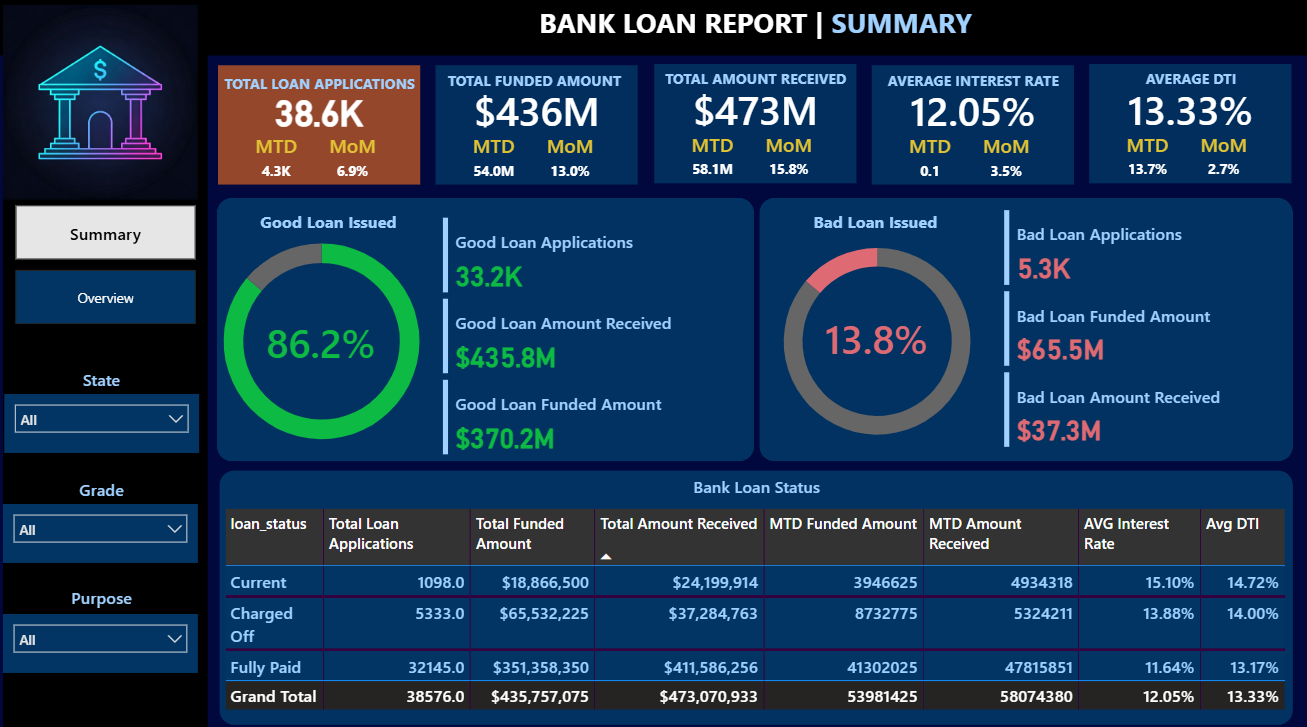

This screenshot's page, from the dashboard's own definition file:
{"tool":"powerbi","page":{"name":"Summary","canvas":[1280,720],"ordinal":0},"visuals":[{"type":"shape","box":[640.7,63.8,197.5,116.6],"z":0,"group":"g2"},{"type":"shape","box":[1066.3,63.8,197.5,116.6],"z":0,"group":"g9"},{"type":"shape","box":[853.5,64.4,197.5,116.6],"z":0,"group":"g6"},{"type":"shape","box":[214.7,65,197.5,116.6],"z":0,"group":"g1"},{"type":"shape","box":[428,65,197.5,116.6],"z":0,"group":"g4"},{"type":"shape","box":[213.5,193.9,525.2,257.7],"z":0},{"type":"shape","box":[0,0,1279.8,55.2],"z":1000},{"type":"card","fields":{"Values":["bank_loan.Total Amount Received"]},"box":[640.7,87.1,197.5,42.9],"z":1000,"group":"g2"},{"type":"card","fields":{"Values":["bank_loan.Avg DTI"]},"box":[1066.3,87.1,197.5,42.9],"z":1000,"group":"g9"},{"type":"card","fields":{"Values":["bank_loan.AVG Interest Rate"]},"box":[853.5,87.7,197.5,42.9],"z":1000,"group":"g6"},{"type":"card","fields":{"Values":["bank_loan.Total Loan Applications"]},"box":[214.7,88.3,197.5,42.9],"z":1000,"group":"g1"},{"type":"card","fields":{"Values":["bank_loan.Total Funded Amount"]},"box":[428,88.4,197.5,42.9],"z":1000,"group":"g4"},{"type":"shape","box":[5,0,200,720],"z":2000},{"type":"textbox","box":[641.9,63.8,196.3,36.8],"z":2000,"group":"g2"},{"type":"textbox","box":[1067.5,63.8,196.3,36.8],"z":2000,"group":"g9"},{"type":"textbox","box":[854.7,64.4,196.3,36.8],"z":2000,"group":"g6"},{"type":"textbox","box":[429.2,65,191.4,30.7],"z":2000,"group":"g4"},{"type":"textbox","box":[215.3,68.4,196.3,36.8],"z":2000,"group":"g1"},{"type":"card","title":"MTD","fields":{"Values":["bank_loan.MTD Amount Received"]},"box":[664,130.1,67.5,54],"z":3000,"group":"g2"},{"type":"card","title":"MTD","fields":{"Values":["bank_loan.MTD Avg DTI"]},"box":[1089.6,130.1,67.5,54],"z":3000,"group":"g9"},{"type":"card","title":"MTD","fields":{"Values":["bank_loan.MTD Avg Interest Rate"]},"box":[876.8,130.7,67.5,54],"z":3000,"group":"g6"},{"type":"card","title":"MTD","fields":{"Values":["bank_loan.MTD Loan Applications"]},"box":[238,131.3,67.5,54],"z":3000,"group":"g1"},{"type":"card","title":"MTD","fields":{"Values":["bank_loan.MTD Funded Amount"]},"box":[451.3,131.3,67.5,54],"z":3000,"group":"g4"},{"type":"card","fields":{"Values":["bank_loan.Good Loan %"]},"box":[250.3,300.6,130.1,71.2],"z":3000},{"type":"textbox","box":[200,0,1079.8,89.6],"z":4000},{"type":"card","title":"MoM","fields":{"Values":["bank_loan.MoM Amount Received"]},"box":[740.1,130.1,65,54],"z":4000,"group":"g2"},{"type":"card","title":"MoM","fields":{"Values":["bank_loan.MoM Avg DTI"]},"box":[1165.7,130.1,65,54],"z":4000,"group":"g9"},{"type":"card","title":"MoM","fields":{"Values":["bank_loan.MoM Avg Interest Rate"]},"box":[952.9,130.7,65,54],"z":4000,"group":"g6"},{"type":"card","title":"MoM","fields":{"Values":["bank_loan.MoM Loan Applications"]},"box":[314.1,131.3,65,54],"z":4000,"group":"g1"},{"type":"card","title":"MoM","fields":{"Values":["bank_loan.MoM Funded Amount"]},"box":[527.4,131.3,65,54],"z":4000,"group":"g4"},{"type":"group","id":"g1","title":"Group 1","box":[214.7,65,197.5,120.2],"z":5000},{"type":"group","id":"g2","title":"Group 2","box":[640.7,63.8,197.5,120.2],"z":5005,"group":"g8"},{"type":"group","id":"g3","title":"Group 2","box":[853.5,64.4,197.5,120.2],"z":5005,"group":"g7"},{"type":"group","id":"g4","title":"Group 2","box":[428,65,197.5,120.3],"z":5005,"group":"g5"},{"type":"group","id":"g5","title":"Group 1","box":[428,65,197.5,120.3],"z":6000},{"type":"group","id":"g6","title":"Group 3","box":[853.5,64.4,197.5,120.2],"z":6001,"group":"g3"},{"type":"group","id":"g7","title":"Group 1","box":[853.5,64.4,197.5,120.2],"z":7000},{"type":"group","id":"g8","title":"Group 1","box":[640.7,63.8,197.5,120.2],"z":8000},{"type":"group","id":"g9","title":"Group 3","box":[1066.3,63.8,197.5,120.2],"z":9000},{"type":"donutChart","fields":{"Category":["bank_loan.Good VS Bad Loan"],"Y":["bank_loan.Total Loan Applications"]},"box":[191.4,208.6,249.1,251.5],"z":10000},{"type":"textbox","box":[216,201.2,213.5,47.9],"z":11000},{"type":"shape","box":[743.6,193.9,521.5,257.7],"z":12000},{"type":"cardVisual","fields":{"Data":["bank_loan.Good Loan Applications","bank_loan.Good Loan Amount Received","bank_loan.Good Loan Funded Amount"]},"box":[429.5,208.6,279.8,242.9],"z":13000},{"type":"cardVisual","fields":{"Data":["bank_loan.Bad Loan Applications","bank_loan.Bad Loan Funded Amount","bank_loan.Bad Loan Amount Received"]},"box":[977.9,201.2,279.8,242.9],"z":14000},{"type":"textbox","box":[743.6,201.2,227,47.9],"z":15000},{"type":"donutChart","fields":{"Y":["bank_loan.Total Loan Applications"],"Category":["bank_loan.Good VS Bad Loan"]},"box":[739.9,208.6,238,251.5],"z":16000},{"type":"card","fields":{"Values":["bank_loan.Bad Loan %"]},"box":[793.9,296.9,128.8,69.9],"z":17000},{"type":"shape","box":[216,460.1,1049.1,249.1],"z":18000},{"type":"tableEx","fields":{"Values":["bank_loan.loan_status","bank_loan.Total Loan Applications","bank_loan.Total Funded Amount","bank_loan.Total Amount Received","bank_loan.MTD Funded Amount","bank_loan.MTD Amount Received","bank_loan.AVG Interest Rate","bank_loan.Avg DTI"]},"box":[216,493.3,1049.1,227],"z":19000},{"type":"textbox","box":[218.4,460.1,1045.4,33.1],"z":20000},{"type":"slicer","fields":{"Values":["bank_loan.address_state"]},"box":[6.2,386.2,190,57.5],"z":21000},{"type":"textbox","box":[1.2,355,200,32.5],"z":22000},{"type":"slicer","fields":{"Values":["bank_loan.grade"]},"box":[5,493.8,190,57.5],"z":23000},{"type":"slicer","fields":{"Values":["bank_loan.purpose"]},"box":[5,601.2,190,57.5],"z":24000},{"type":"textbox","box":[1.2,462.5,200,31.2],"z":25000},{"type":"textbox","box":[1.2,568.8,200,32.5],"z":26000},{"type":"image","box":[0,0,200,201.2],"z":27000},{"type":"pageNavigator","box":[17.2,201.2,176.7,117.8],"z":28000}]}

Visuals, with their boxes in screenshot pixels (x1, y1, x2, y2), scaled from the page's 1280x720 canvas onto the 1307x727 screenshot:
shape: detection(654, 64, 856, 182)
shape: detection(1089, 64, 1290, 182)
shape: detection(872, 65, 1073, 183)
shape: detection(219, 66, 421, 183)
shape: detection(437, 66, 639, 183)
shape: detection(218, 196, 754, 456)
shape: detection(0, 0, 1306, 56)
card - bank_loan.Total Amount Received: detection(654, 88, 856, 131)
card - bank_loan.Avg DTI: detection(1089, 88, 1290, 131)
card - bank_loan.AVG Interest Rate: detection(872, 89, 1073, 132)
card - bank_loan.Total Loan Applications: detection(219, 89, 421, 132)
card - bank_loan.Total Funded Amount: detection(437, 89, 639, 133)
shape: detection(5, 0, 209, 726)
textbox: detection(655, 64, 856, 102)
textbox: detection(1090, 64, 1290, 102)
textbox: detection(873, 65, 1073, 102)
textbox: detection(438, 66, 634, 97)
textbox: detection(220, 69, 420, 106)
"MTD" card: detection(678, 131, 747, 186)
"MTD" card: detection(1113, 131, 1182, 186)
"MTD" card: detection(895, 132, 964, 186)
"MTD" card: detection(243, 133, 312, 187)
"MTD" card: detection(461, 133, 530, 187)
card - bank_loan.Good Loan %: detection(256, 304, 388, 375)
textbox: detection(204, 0, 1306, 90)
"MoM" card: detection(756, 131, 822, 186)
"MoM" card: detection(1190, 131, 1257, 186)
"MoM" card: detection(973, 132, 1039, 186)
"MoM" card: detection(321, 133, 387, 187)
"MoM" card: detection(539, 133, 605, 187)
"Group 1" group: detection(219, 66, 421, 187)
"Group 2" group: detection(654, 64, 856, 186)
"Group 2" group: detection(872, 65, 1073, 186)
"Group 2" group: detection(437, 66, 639, 187)
"Group 1" group: detection(437, 66, 639, 187)
"Group 3" group: detection(872, 65, 1073, 186)
"Group 1" group: detection(872, 65, 1073, 186)
"Group 1" group: detection(654, 64, 856, 186)
"Group 3" group: detection(1089, 64, 1290, 186)
donutChart - bank_loan.Good VS Bad Loan x bank_loan.Total Loan Applications: detection(195, 211, 450, 465)
textbox: detection(221, 203, 439, 252)
shape: detection(759, 196, 1292, 456)
cardVisual - bank_loan.Good Loan Applications x bank_loan.Good Loan Amount Received: detection(439, 211, 724, 456)
cardVisual - bank_loan.Bad Loan Applications x bank_loan.Bad Loan Funded Amount: detection(999, 203, 1284, 448)
textbox: detection(759, 203, 991, 252)
donutChart - bank_loan.Total Loan Applications x bank_loan.Good VS Bad Loan: detection(756, 211, 999, 465)
card - bank_loan.Bad Loan %: detection(811, 300, 942, 370)
shape: detection(221, 465, 1292, 716)
tableEx - bank_loan.loan_status x bank_loan.Total Loan Applications: detection(221, 498, 1292, 726)
textbox: detection(223, 465, 1290, 498)
slicer - bank_loan.address_state: detection(6, 390, 200, 448)
textbox: detection(1, 358, 205, 391)
slicer - bank_loan.grade: detection(5, 499, 199, 557)
slicer - bank_loan.purpose: detection(5, 607, 199, 665)
textbox: detection(1, 467, 205, 498)
textbox: detection(1, 574, 205, 607)
image: detection(0, 0, 204, 203)
pageNavigator: detection(18, 203, 198, 322)
